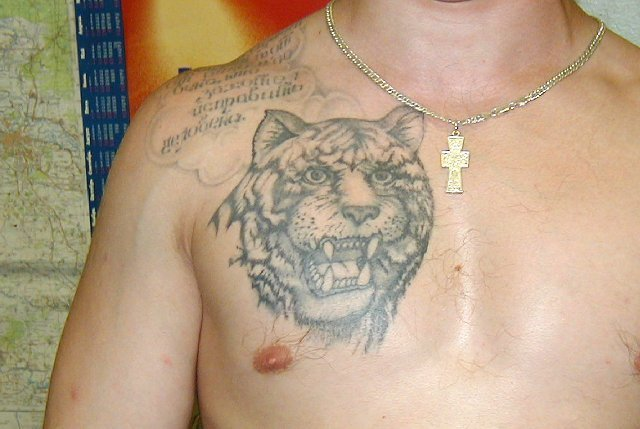tatu3_bukva: (159, 20, 311, 158)
tatu5_tigr: (215, 110, 437, 348)
